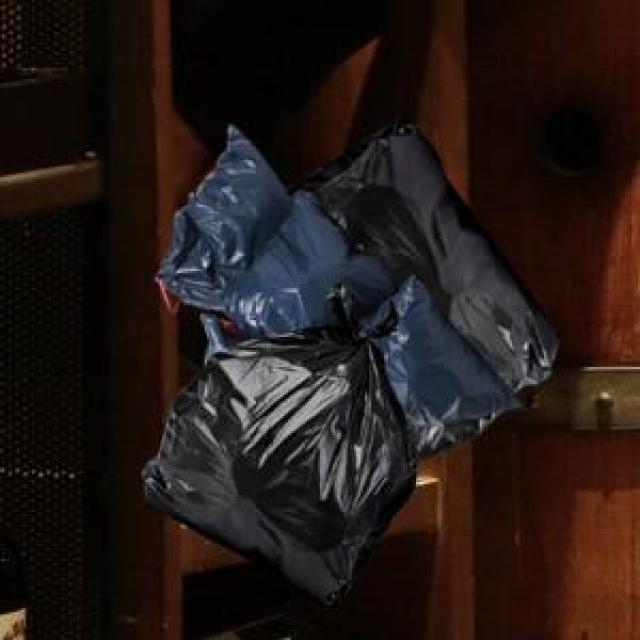waste: (142, 126, 558, 601)
